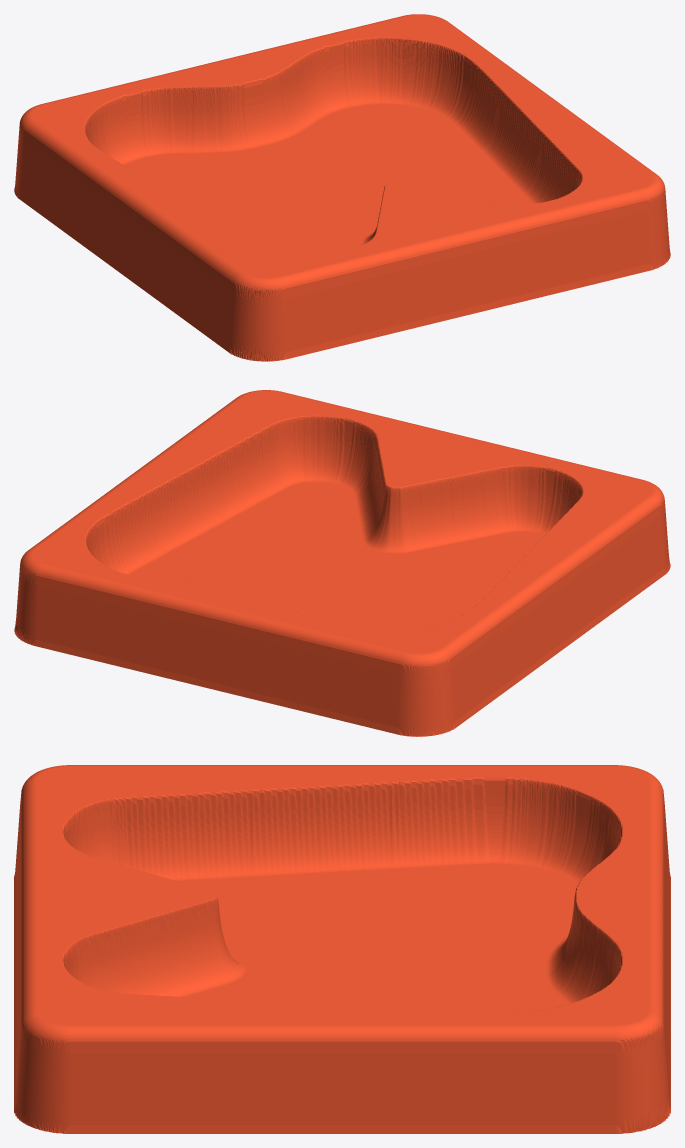
The model's file is mold.glb.
The picture shows the model from 3 angles, top to bottom: view 1: azimuth 30°, elevation 25°; view 2: azimuth 150°, elevation 25°; view 3: azimuth 270°, elevation 25°; orthographic projection. The views are drawn at different scales.
Visible parts, largest first — view 1: geometry_0; view 2: geometry_0; view 3: geometry_0.
Boxes of the visible parts, x1=… form: geometry_0: x1=14, y1=14, x2=670, y2=361; geometry_0: x1=14, y1=390, x2=670, y2=736; geometry_0: x1=14, y1=765, x2=670, y2=1133.
Bounding box in the file's own units: 0.105 × 0.0175 × 0.105.
